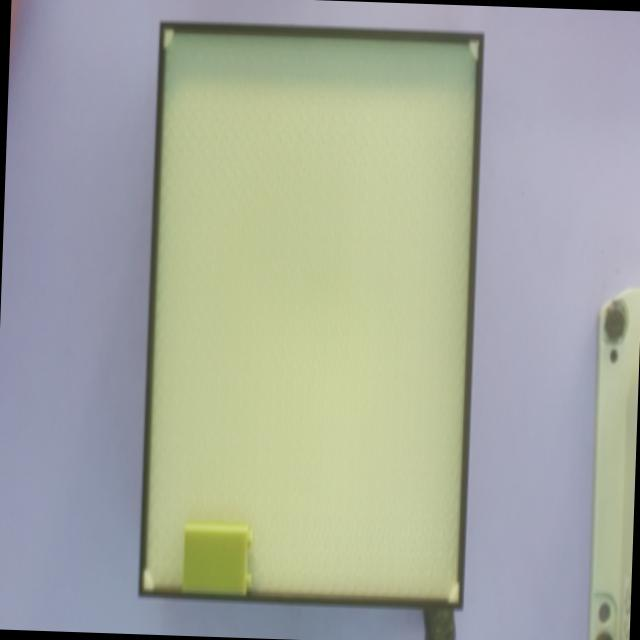Bateria: (182, 524, 247, 594)
Mesa: (139, 21, 484, 611)
Pestana: (247, 530, 252, 547), (246, 574, 251, 585)
